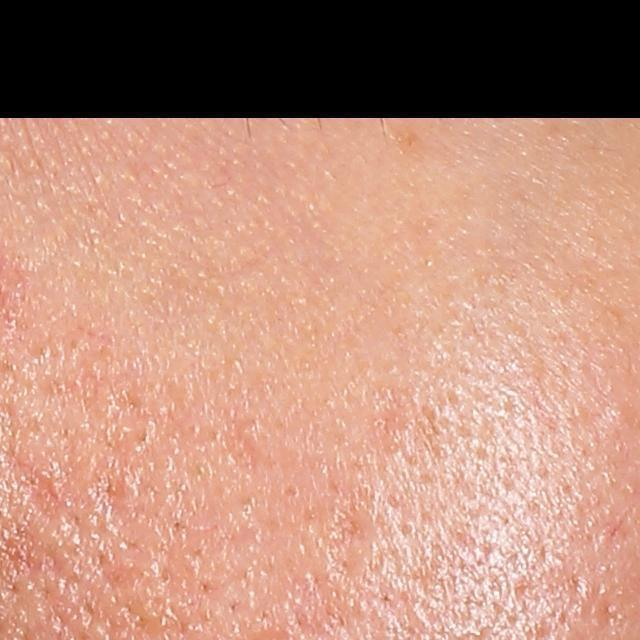comedo: (602, 402, 631, 428)
